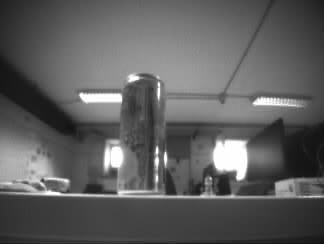Tin can: (114, 71, 167, 195)
